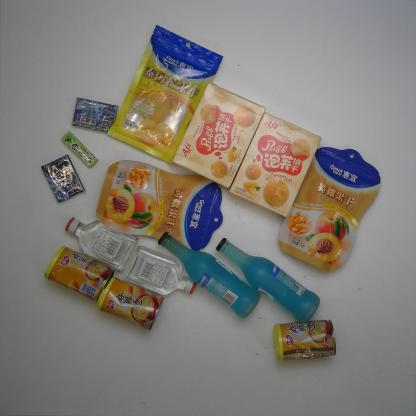Alcohol: (157, 231, 261, 319), (215, 237, 320, 324), (64, 216, 140, 272), (124, 244, 198, 296)
Canned Food: (43, 245, 115, 302), (95, 276, 165, 332), (273, 318, 337, 363)
Dessert: (170, 81, 266, 189), (228, 112, 322, 218)
Dried Fruit: (106, 24, 224, 166), (278, 146, 382, 273), (95, 159, 224, 252)
Gum: (40, 154, 87, 204), (70, 96, 119, 132), (60, 130, 99, 168)
